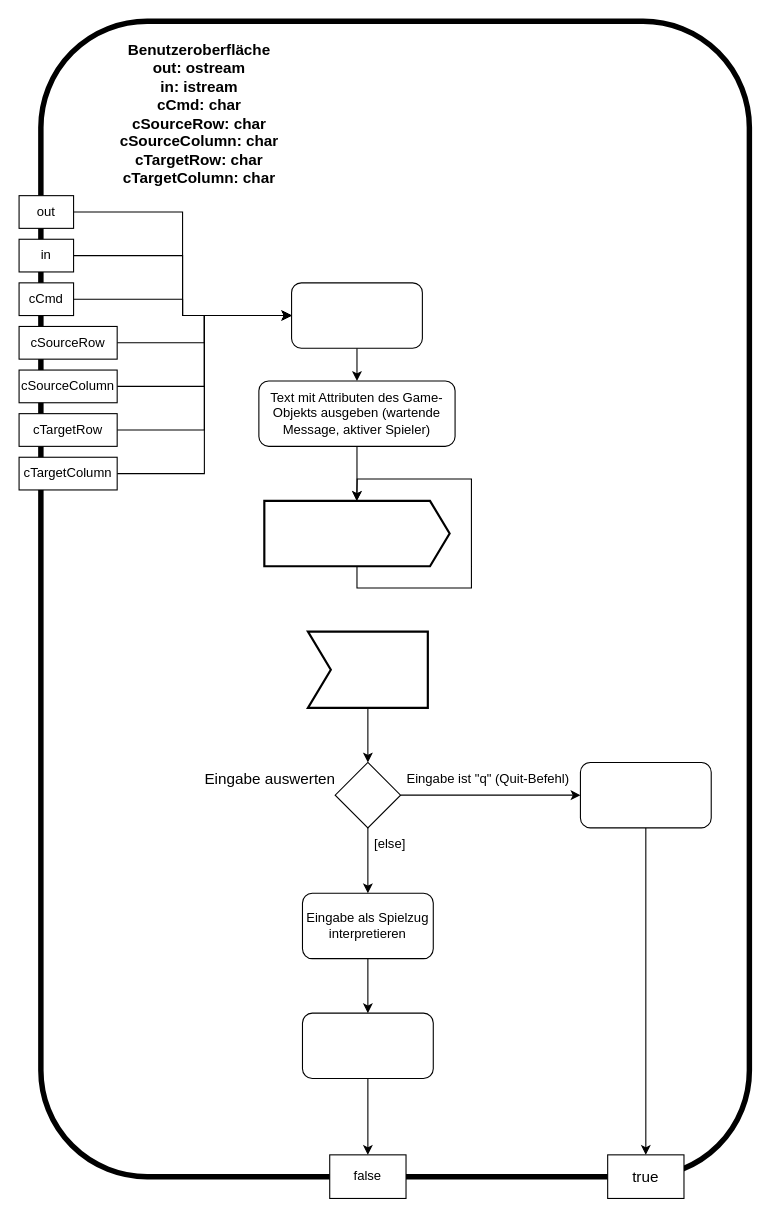
This 771x1218 diagram has some shape labels left out. The centre of each missing label's shape, as x and y in pixels:
Auf Spielzug des Nutzers warten: point 356,533
Eingabe-Puffer leeren: point 367,1045
Spiel beenden: point 645,794
Spielbrett ausgeben: point 356,315
Spielzug eingegeben: point 367,669
